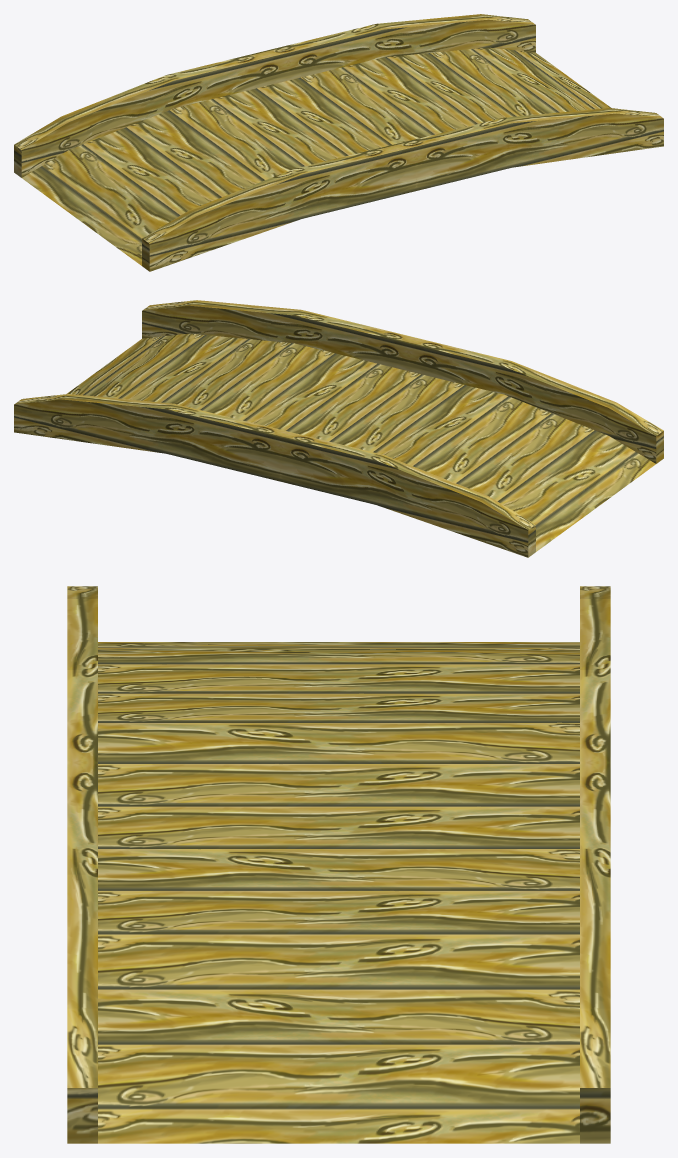
File: Bridge_Textured.fbx
The picture shows the model from 3 angles, top to bottom: view 1: azimuth 30°, elevation 25°; view 2: azimuth 150°, elevation 25°; view 3: azimuth 270°, elevation 25°; orthographic projection. The views are drawn at different scales.
Parts seen in each view (by area): view 1: Cube1; view 2: Cube1; view 3: Cube1.
Part boxes in pixels (box(x1,y1,x2,y2)): Cube1: box(14, 14, 663, 271); Cube1: box(14, 300, 663, 557); Cube1: box(67, 586, 610, 1143).
Bounding box in the file's own units: 434 × 48.58 × 198.
1 material, 1 textured.
